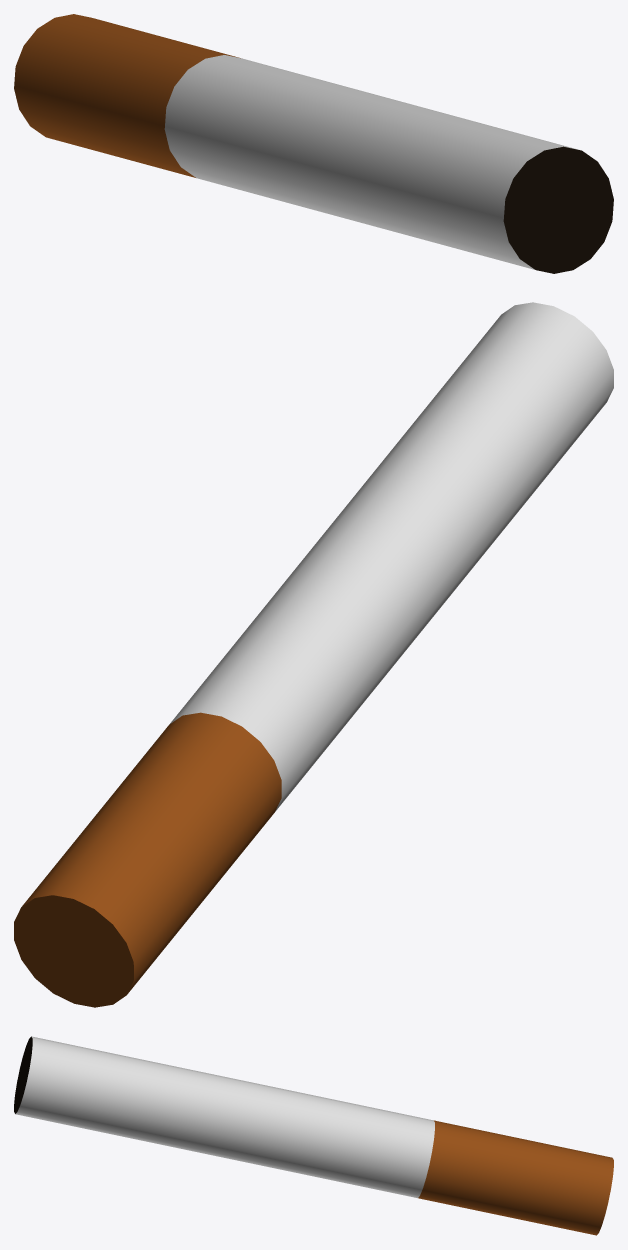
File: Cigarette.fbx
3 views of the same model, one above another, from view 1: azimuth 30°, elevation 25°; view 2: azimuth 150°, elevation 25°; view 3: azimuth 270°, elevation 25° (orthographic). The views are drawn at different scales.
Parts seen in each view (by area): view 1: Clope2, Clope; view 2: Clope2, Clope; view 3: Clope2, Clope.
Boxes of the visible parts, bbox=[...] form: Clope2: bbox=[164, 55, 613, 273]; Clope: bbox=[14, 14, 240, 177]; Clope2: bbox=[169, 302, 613, 811]; Clope: bbox=[14, 712, 281, 1007]; Clope2: bbox=[14, 1036, 434, 1198]; Clope: bbox=[418, 1120, 613, 1235].
Bounding box in the file's own units: 2.64 × 6.1 × 16.83.
